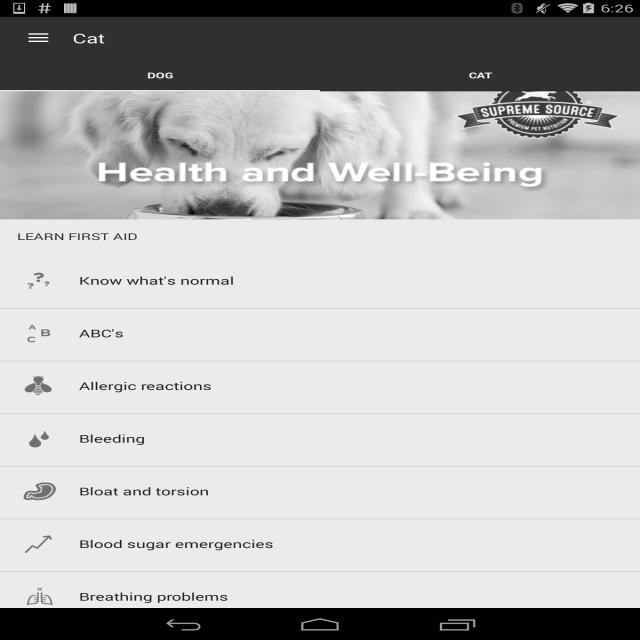ImageButton: (9, 17, 68, 59)
ImageView: (0, 92, 640, 220), (17, 266, 62, 294), (17, 320, 62, 348), (17, 372, 62, 400), (17, 424, 62, 452), (17, 478, 62, 506), (17, 530, 62, 558), (17, 582, 62, 610)
TextView: (0, 59, 320, 92), (320, 59, 640, 92), (79, 537, 274, 551), (79, 273, 234, 288), (79, 589, 229, 604), (79, 379, 212, 393), (79, 484, 209, 498), (17, 230, 138, 243), (79, 431, 145, 446), (79, 326, 124, 340), (73, 29, 105, 47)
